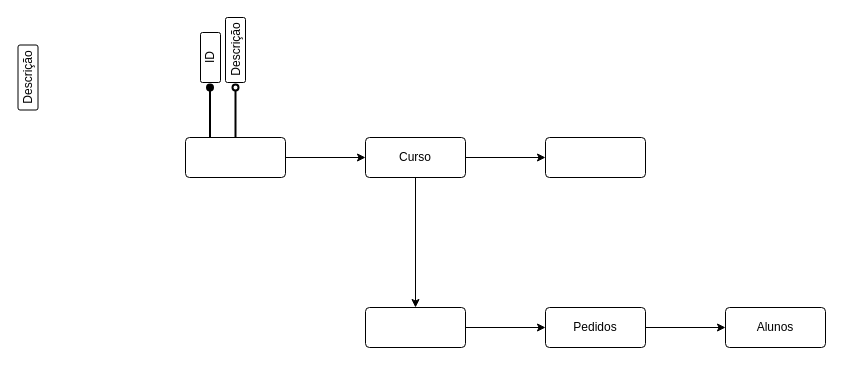
Some shapes in this 843 by 365 pixel diagram are drawn without their labels. Here are the shapes that lost their labels. From the top down, the centre of each, then its label:
At [235,157]: "Tipo".
At [595,157]: "Instrutor".
At [415,327]: "Curso, pedido".
